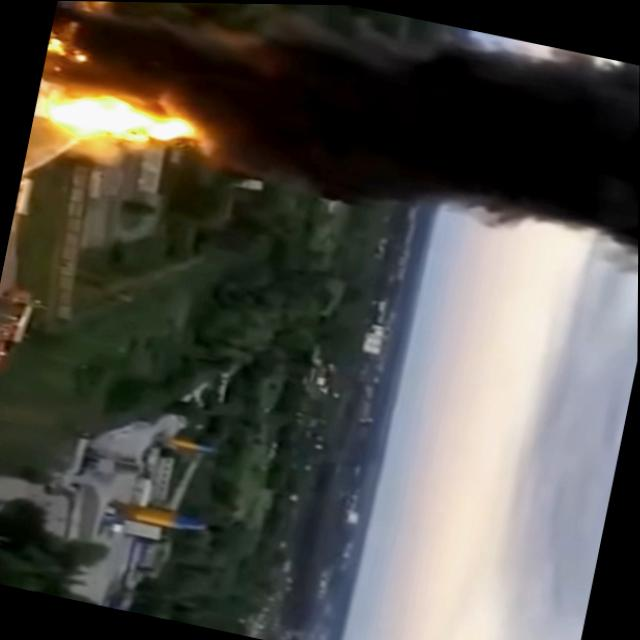fire: (39, 75, 220, 179), (45, 1, 80, 64)
smoke: (234, 3, 640, 252), (547, 51, 640, 256)
